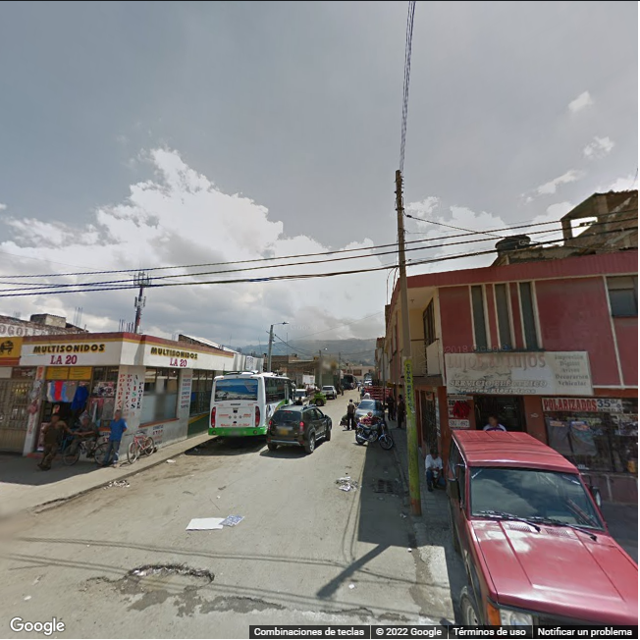D40: (126, 559, 206, 600)
